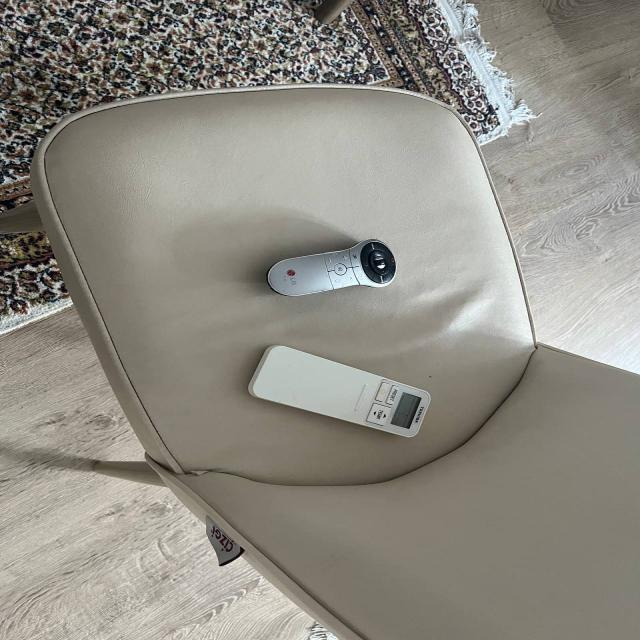remote: (226, 333, 430, 451), (254, 233, 416, 302)
